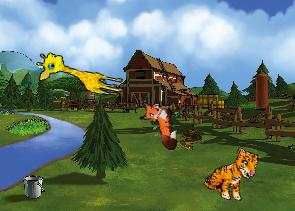fox: (137, 97, 179, 153)
giraffe: (33, 49, 127, 98)
tiger: (201, 140, 262, 206)
